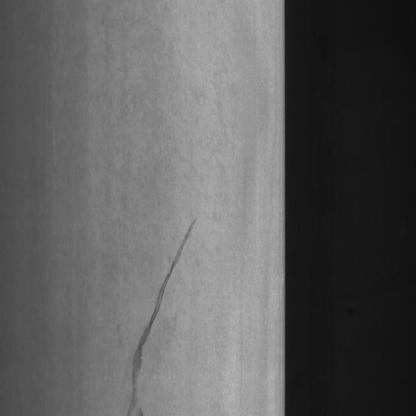water_spot: (122, 206, 202, 416)
